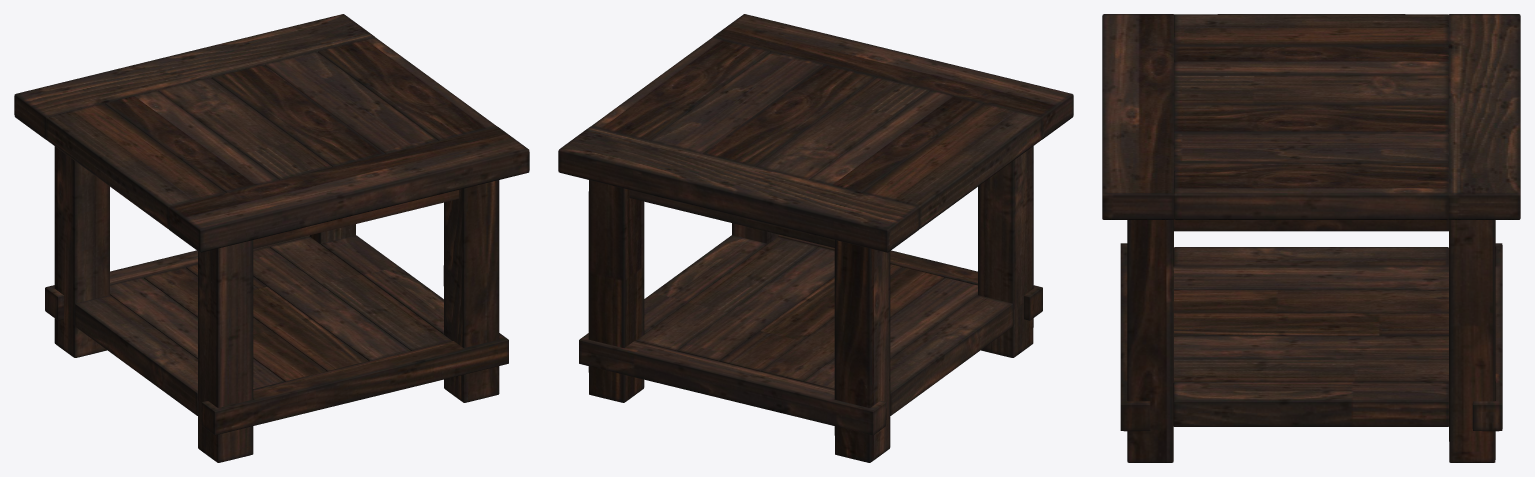
Rendered from table_B075Z8THZ2.glb.
3 renders of one model, left to right at view 1: azimuth 30°, elevation 25°; view 2: azimuth 150°, elevation 25°; view 3: azimuth 270°, elevation 25°, orthographic. The views are drawn at different scales.
Parts seen in each view (by area): view 1: RootNode; view 2: RootNode; view 3: RootNode.
Part boxes in pixels (x1,y1,x2,y2): RootNode: (14, 14, 529, 462); RootNode: (558, 14, 1073, 462); RootNode: (1102, 14, 1520, 462).
Size of the model in its own units: 0.6059 by 0.4372 by 0.5927.
Materials: 1 (1 with a texture image).
